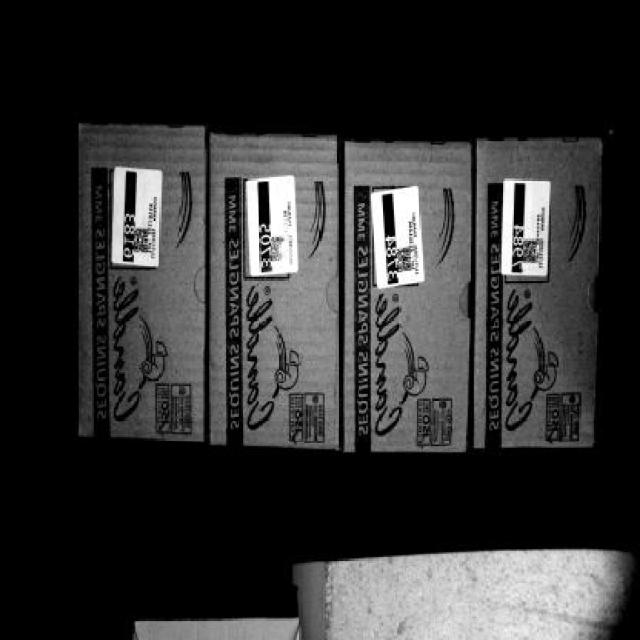cardboxes: (75, 125, 202, 446), (474, 137, 595, 448), (345, 151, 469, 454), (208, 142, 332, 443)
